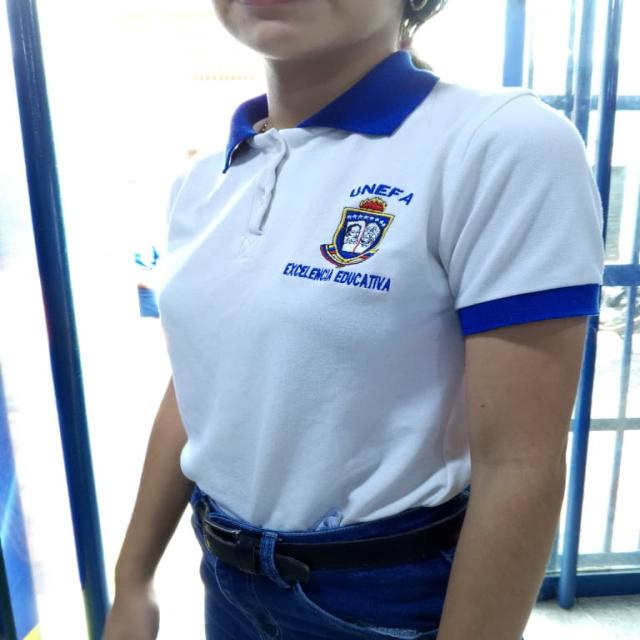uniforme_superior: (153, 48, 606, 534)
